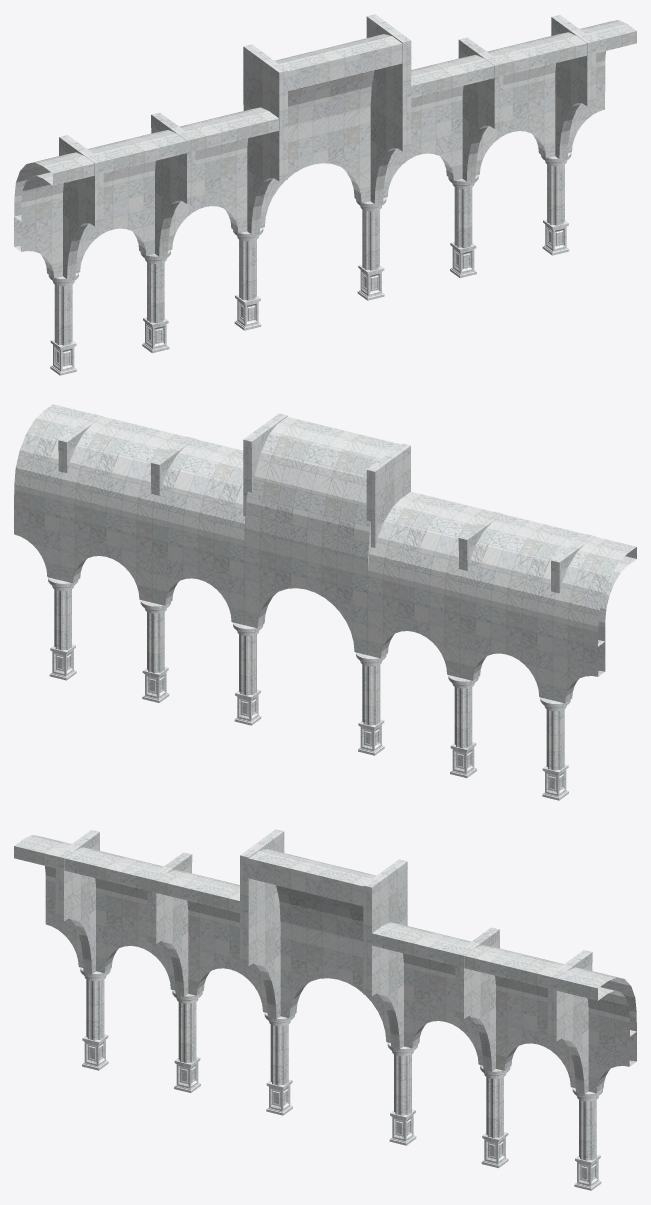
The model's file is ArchCourtSet1_MEDIUM.obj.
3 views of the same model, one above another, from view 1: azimuth 30°, elevation 25°; view 2: azimuth 150°, elevation 25°; view 3: azimuth 330°, elevation 25° (orthographic).
Parts seen in each view (by area): view 1: pillar_stand.006; view 2: pillar_stand.006; view 3: pillar_stand.006.
Boxes of the visible parts, x1,y1,x2,y2 form: pillar_stand.006: [14, 14, 636, 375]; pillar_stand.006: [14, 404, 636, 800]; pillar_stand.006: [14, 829, 636, 1190].
Size of the model in its own units: 18.97 by 8.67 by 2.42.
1 material, 1 textured.
